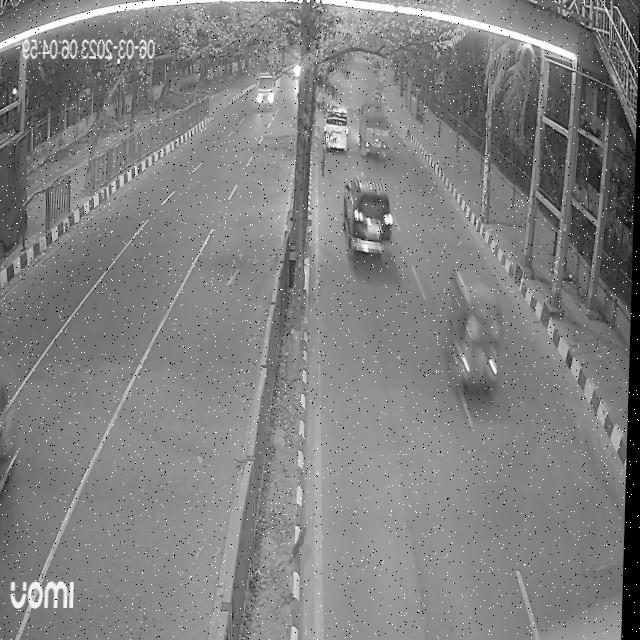cng: (447, 262, 506, 396)
